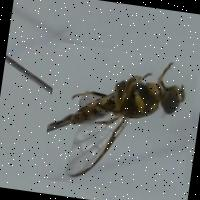Oriental-fruit-fly: (40, 41, 200, 197)
